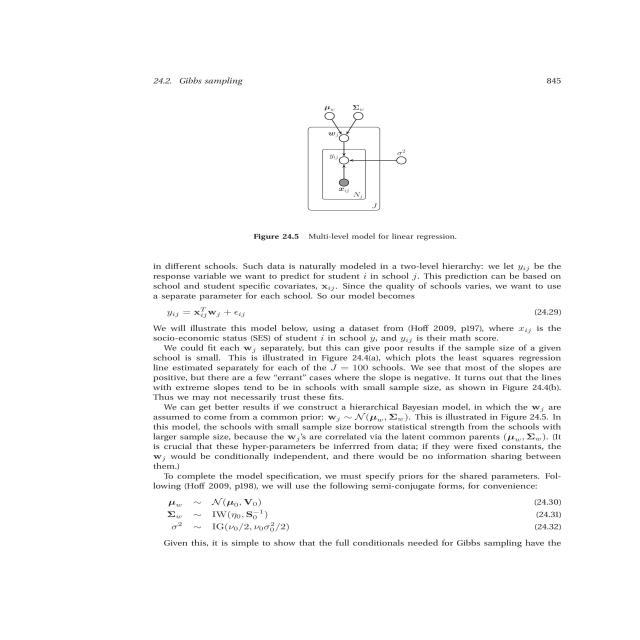diagram: (169, 91, 519, 257)
